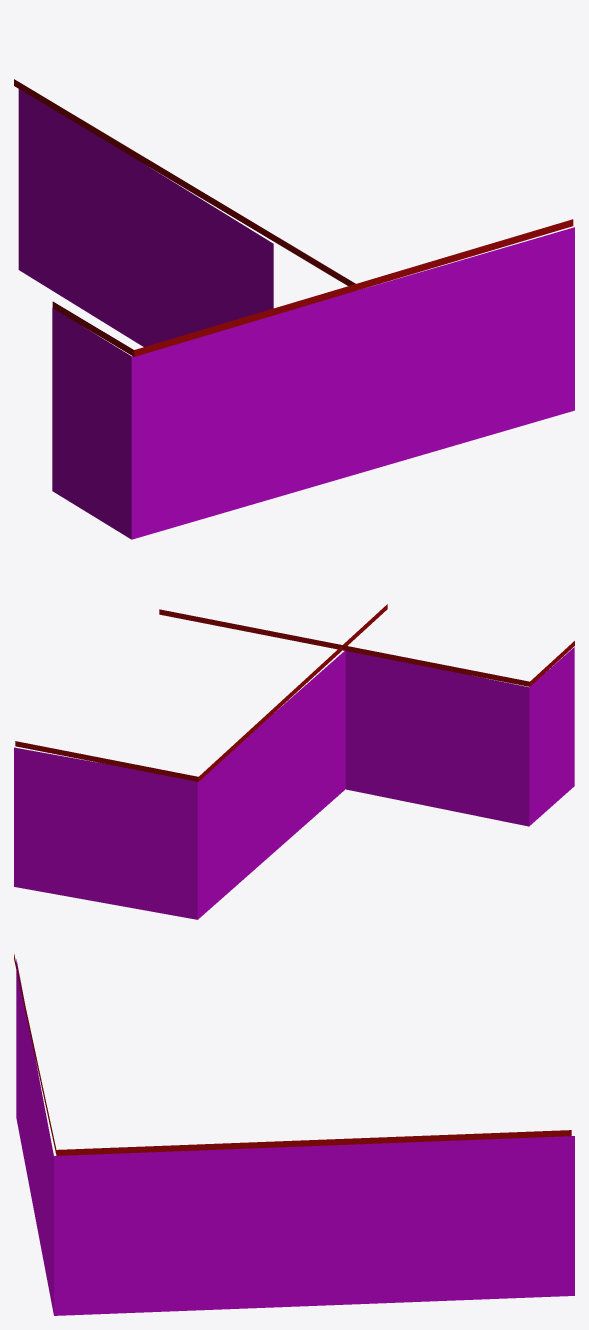
Rendered from bardage_liseré_rouge_52.glb.
3 renders of one model, top to bottom at view 1: azimuth 30°, elevation 25°; view 2: azimuth 150°, elevation 25°; view 3: azimuth 270°, elevation 25°, orthographic. The views are drawn at different scales.
Parts seen in each view (by area): view 1: bardage_liseré_rouge_52; view 2: bardage_liseré_rouge_52; view 3: bardage_liseré_rouge_52.
Boxes of the visible parts, <box> form: bardage_liseré_rouge_52: <box>14,79,574,539</box>; bardage_liseré_rouge_52: <box>14,604,574,919</box>; bardage_liseré_rouge_52: <box>14,954,574,1315</box>.
Bounding box in the file's own units: 24.87 × 9.53 × 29.19.
